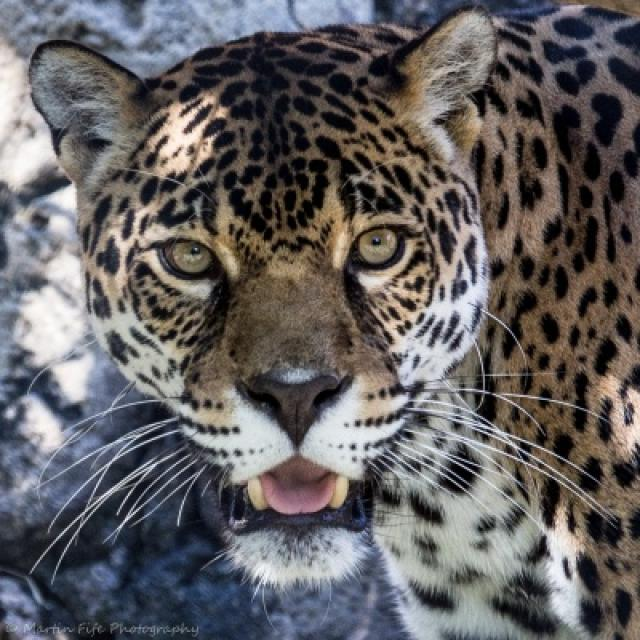Jaguar: (29, 3, 638, 638)
